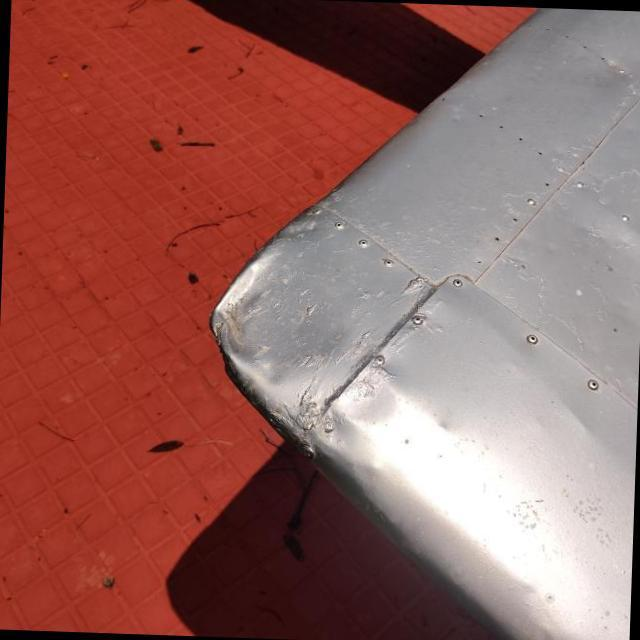Dent: (182, 230, 330, 392)
